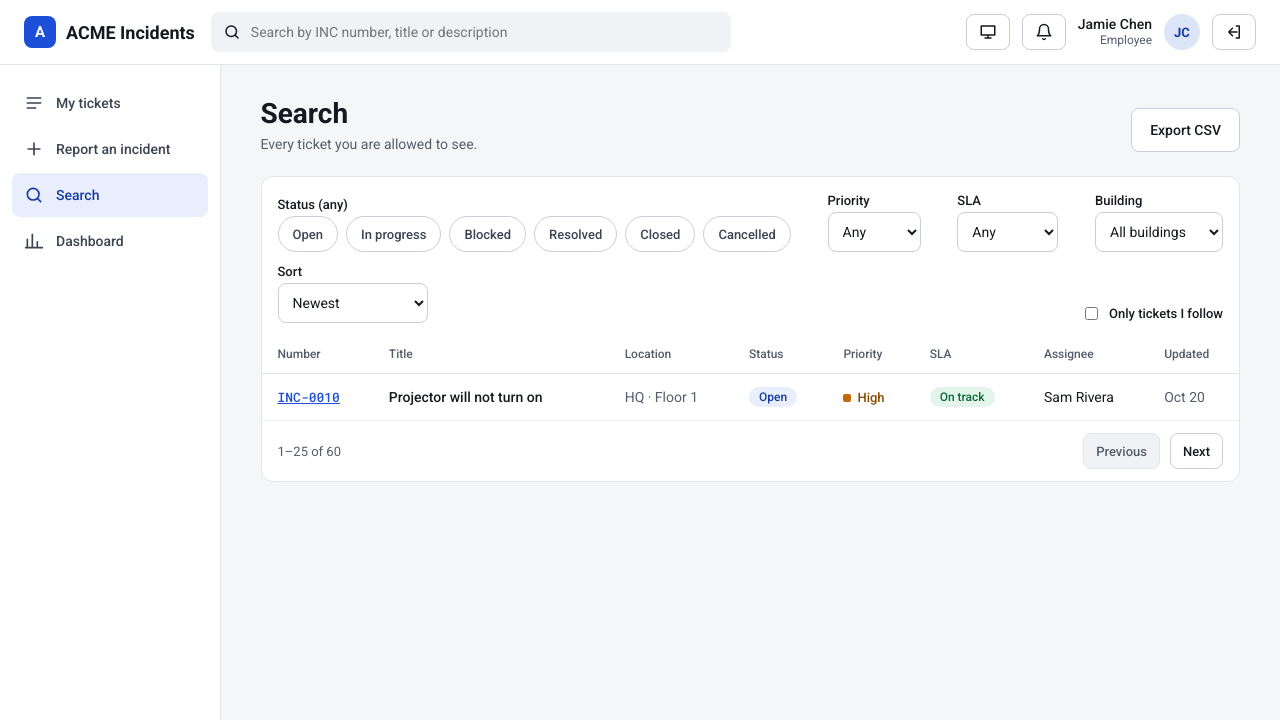
Test case: Export CSV › shows the server error when the export fails
Expected: the heading "Search" is shown, [260,97,348,130]
Expected: the table is shown, [262,335,1239,421]
Click the button "Export CSV": point(1186, 130) [1131,108,1240,152]
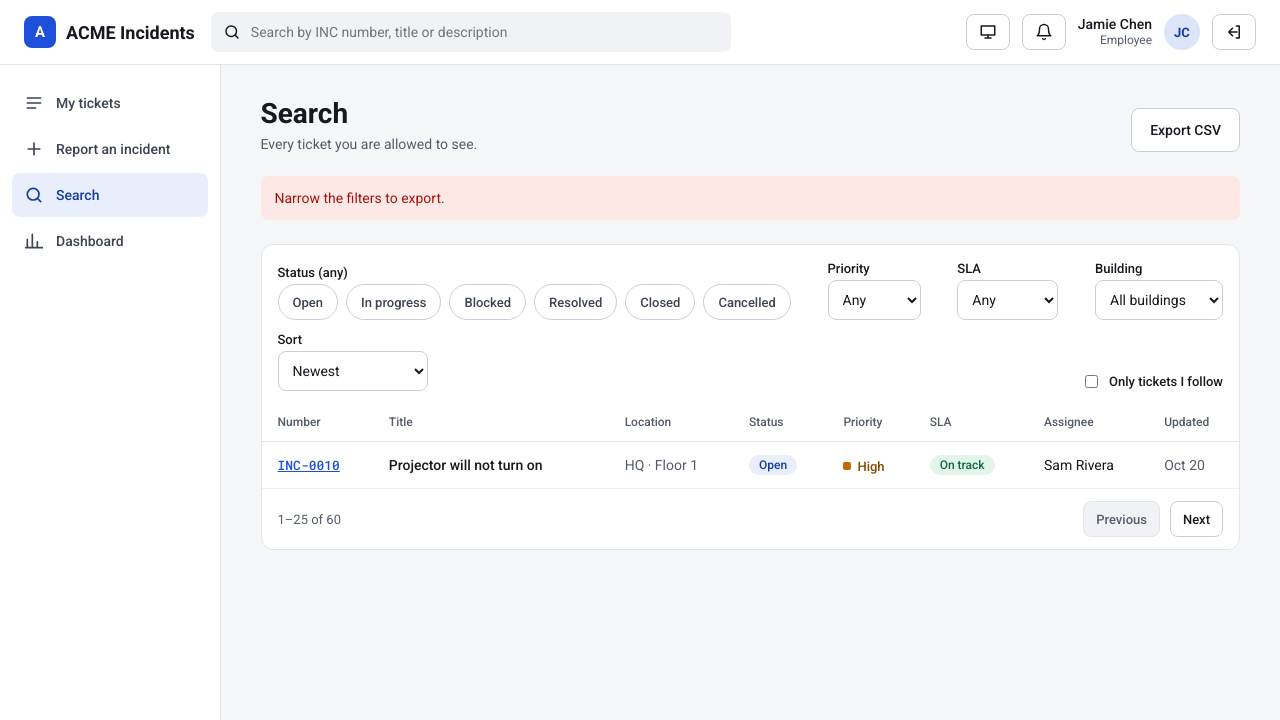
Result: the message reads "Narrow the filters to export." at [274,190,445,206]
